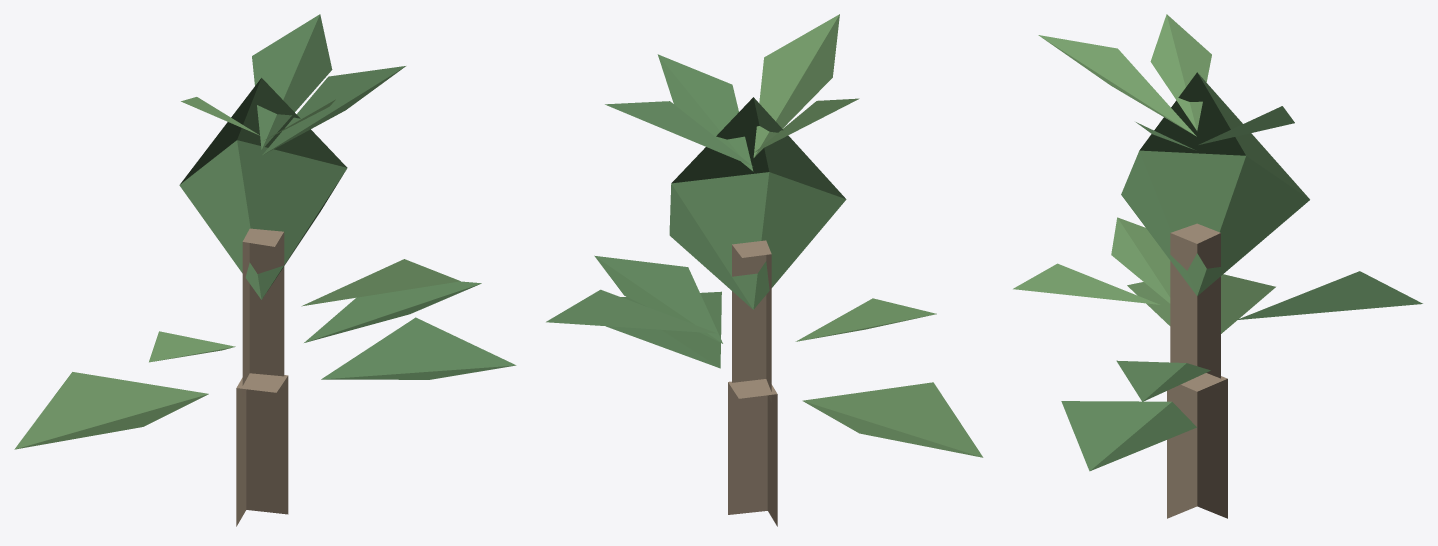
The model's file is shu.longnao@seedling__summer.glb.
3 renders of one model, left to right at view 1: azimuth 30°, elevation 25°; view 2: azimuth 150°, elevation 25°; view 3: azimuth 270°, elevation 25°, orthographic. The views are drawn at different scales.
Visible parts, largest first — view 1: shu.longnao@seedling__summer; view 2: shu.longnao@seedling__summer; view 3: shu.longnao@seedling__summer.
Part boxes in pixels (x1,y1,x2,y2): shu.longnao@seedling__summer: [14, 14, 516, 526]; shu.longnao@seedling__summer: [546, 14, 983, 526]; shu.longnao@seedling__summer: [1013, 14, 1422, 518].
Size of the model in its own units: 2.72 by 2.77 by 2.16.
